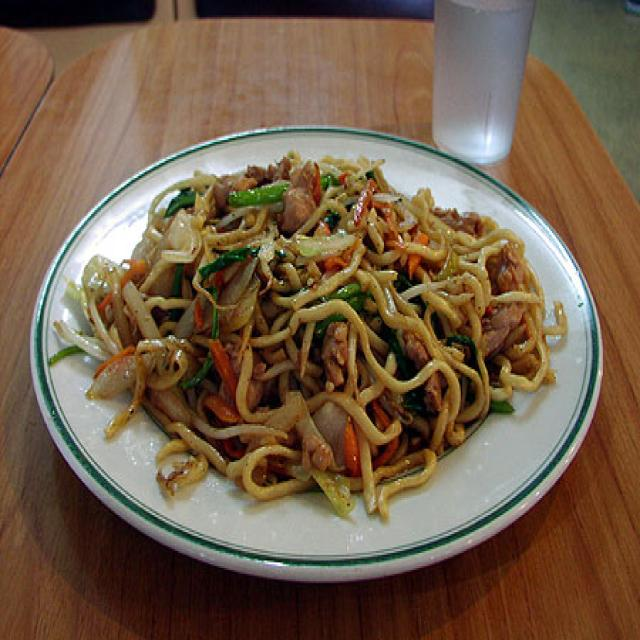面条主食: (23, 131, 607, 589)
